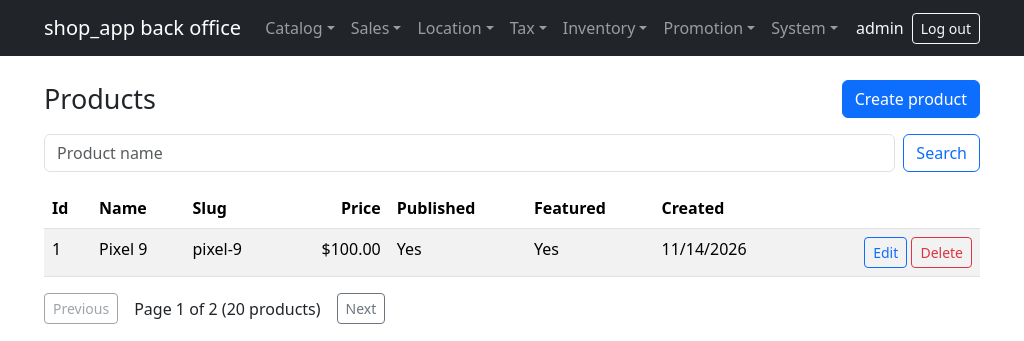
Test case: Products list › searches by name from the first page and pages through the results
Check: the text "Pixel 9" is shown, box [91,228,184,276]
Click the button "Next" at x=361, y=308, box [337,293,385,324]
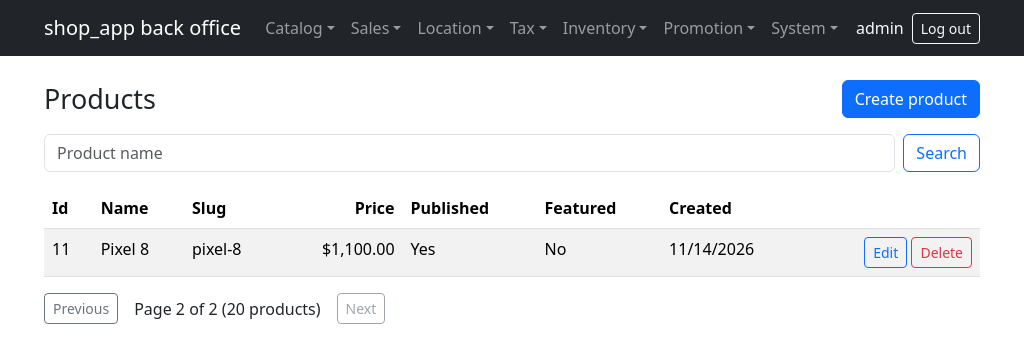
Check: the text "Pixel 8" is shown, box [93,228,184,276]
Check: the button "Next" is disabled, box [337,293,385,324]
Type "pixel" into the field labelled "Product name" at x=470, y=153, box [44,134,895,172]
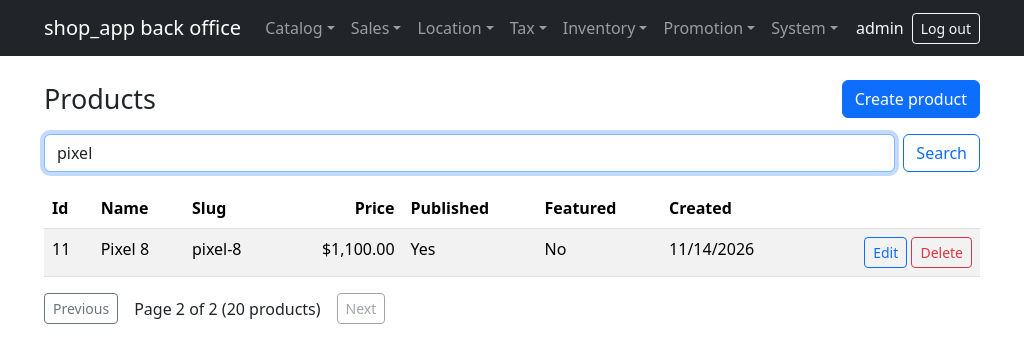
Click the button "Search" at x=942, y=153, box [903,134,980,172]
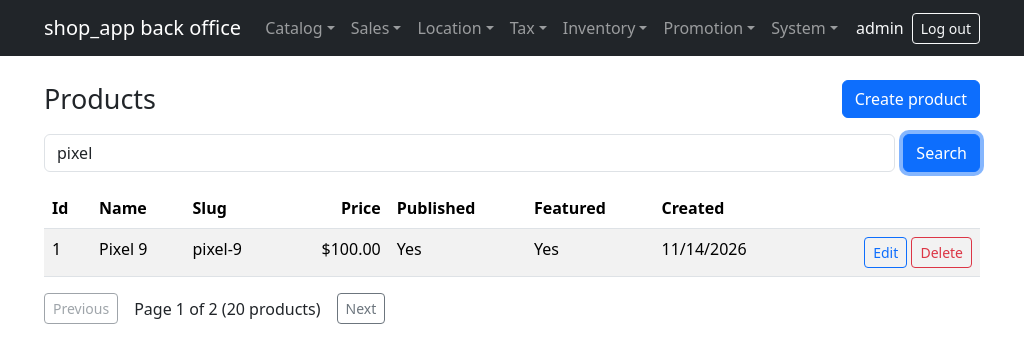
Check: the text "Pixel 9" is shown, box [91,228,184,276]
